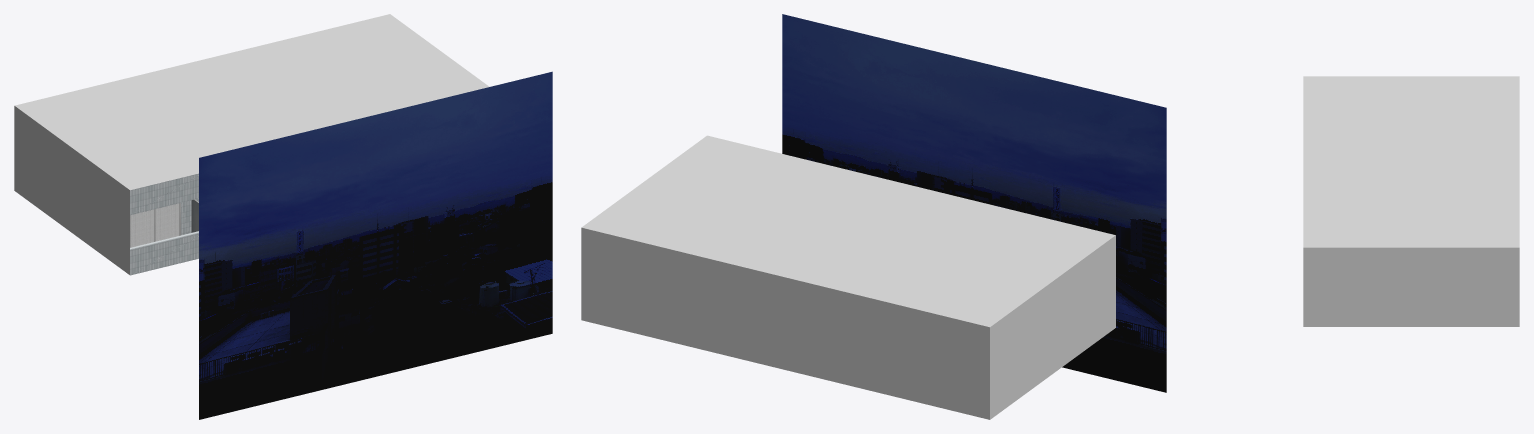
Rendered from One Room Apartment - midnight.glb.
3 renders of one model, left to right at view 1: azimuth 30°, elevation 25°; view 2: azimuth 150°, elevation 25°; view 3: azimuth 270°, elevation 25°, orthographic. The views are drawn at different scales.
Visible parts, largest first — view 1: background, shadow cover, balcony background; view 2: shadow cover, background; view 3: shadow cover.
Part boxes in pixels (x1=…): background: x1=199, y1=71, x2=552, y2=419; shadow cover: x1=14, y1=14, x2=489, y2=274; balcony background: x1=130, y1=173, x2=198, y2=275; shadow cover: x1=581, y1=135, x2=1115, y2=419; background: x1=782, y1=14, x2=1166, y2=392; shadow cover: x1=1303, y1=76, x2=1519, y2=326.
Bounding box in the file's own units: 15.04 × 10 × 12.
56 materials, 53 textured.
